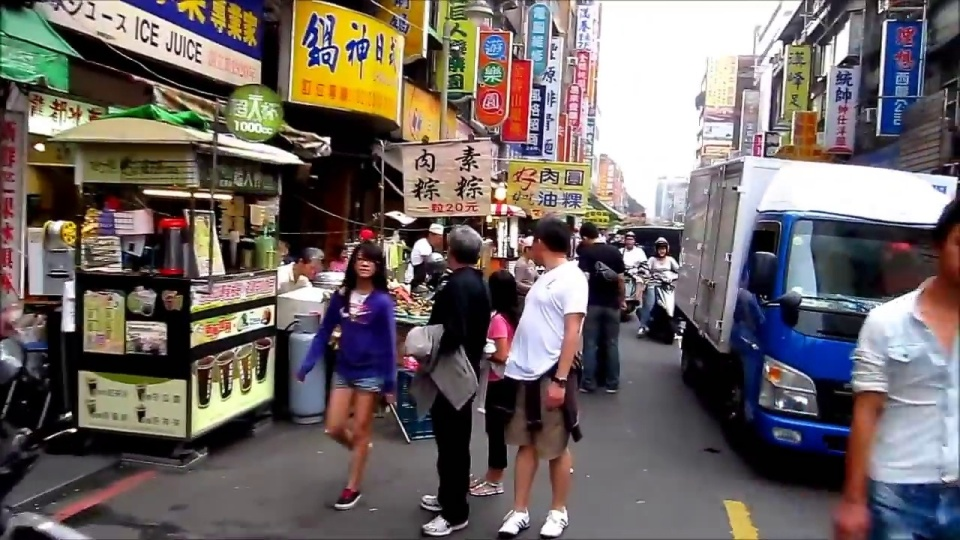person_head: (930, 201, 960, 298), (526, 218, 572, 263), (442, 224, 484, 271), (487, 269, 525, 313), (351, 244, 384, 280), (294, 246, 324, 277), (576, 218, 603, 246), (513, 234, 542, 257), (423, 221, 444, 244), (330, 241, 353, 261), (648, 238, 672, 257), (624, 235, 637, 249)
person_vbox: (833, 194, 960, 540), (495, 211, 582, 540), (295, 243, 390, 510), (412, 224, 491, 537), (467, 260, 522, 505), (573, 213, 624, 397), (633, 230, 681, 344), (272, 234, 327, 297), (403, 215, 447, 288), (504, 228, 547, 294), (612, 227, 644, 276), (320, 235, 354, 274)
